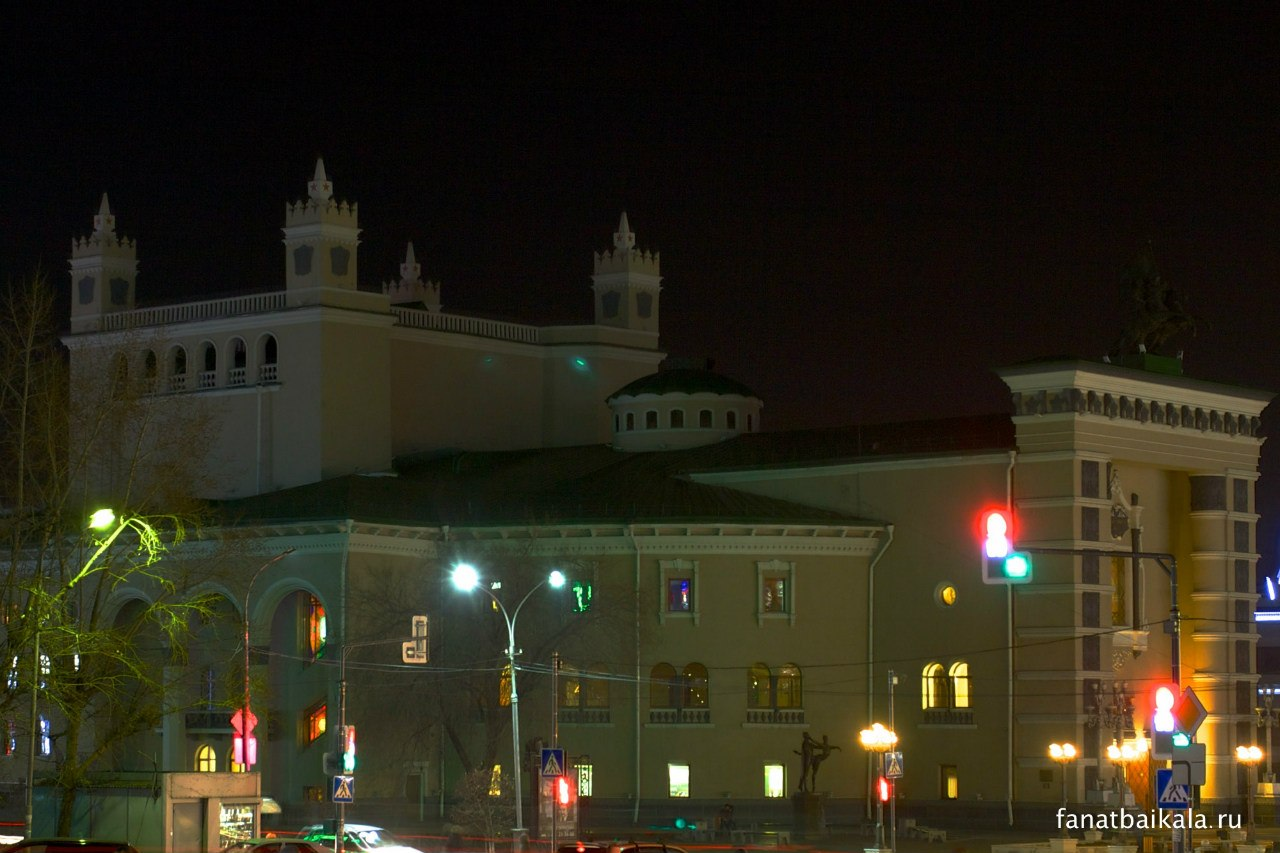sign: (1169, 684, 1209, 737), (1153, 766, 1195, 811), (1169, 740, 1208, 787), (539, 745, 567, 779), (330, 773, 356, 804), (882, 750, 906, 781)
